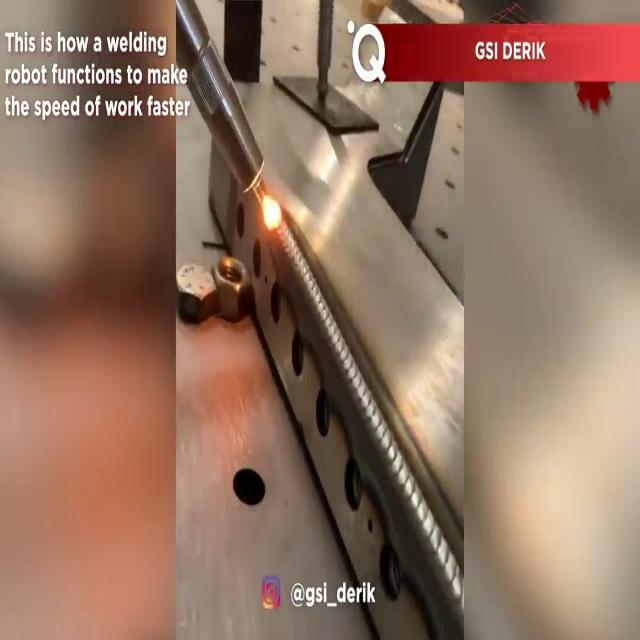Good Weld: (391, 448, 464, 566), (332, 311, 398, 429), (290, 236, 318, 296)
